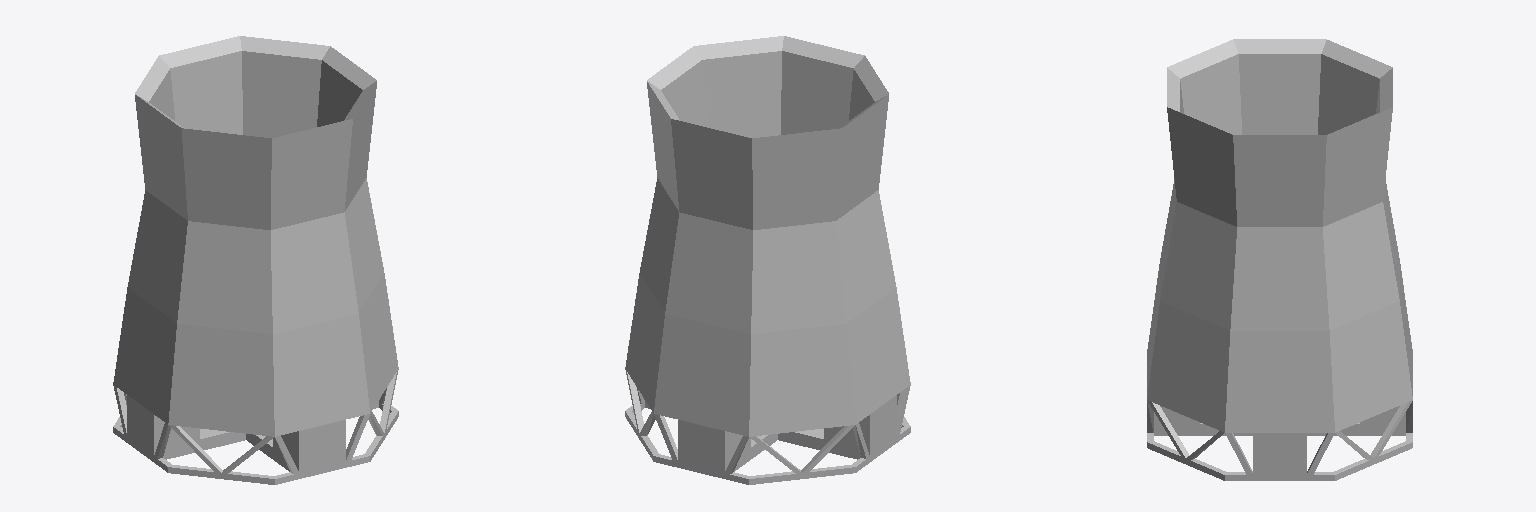
The model's file is cooling_tower.obj.
The picture shows the model from 3 angles: view 1: azimuth 30°, elevation 25°; view 2: azimuth 150°, elevation 25°; view 3: azimuth 270°, elevation 25°; orthographic projection.
Parts seen in each view (by area): view 1: torus; view 2: torus; view 3: torus.
Part boxes in pixels (left/top/right/bottom): torus: left=113, top=36, right=398, bottom=484; torus: left=625, top=36, right=910, bottom=484; torus: left=1147, top=39, right=1412, bottom=480.
Bounding box in the file's own units: 5 × 7 × 5.